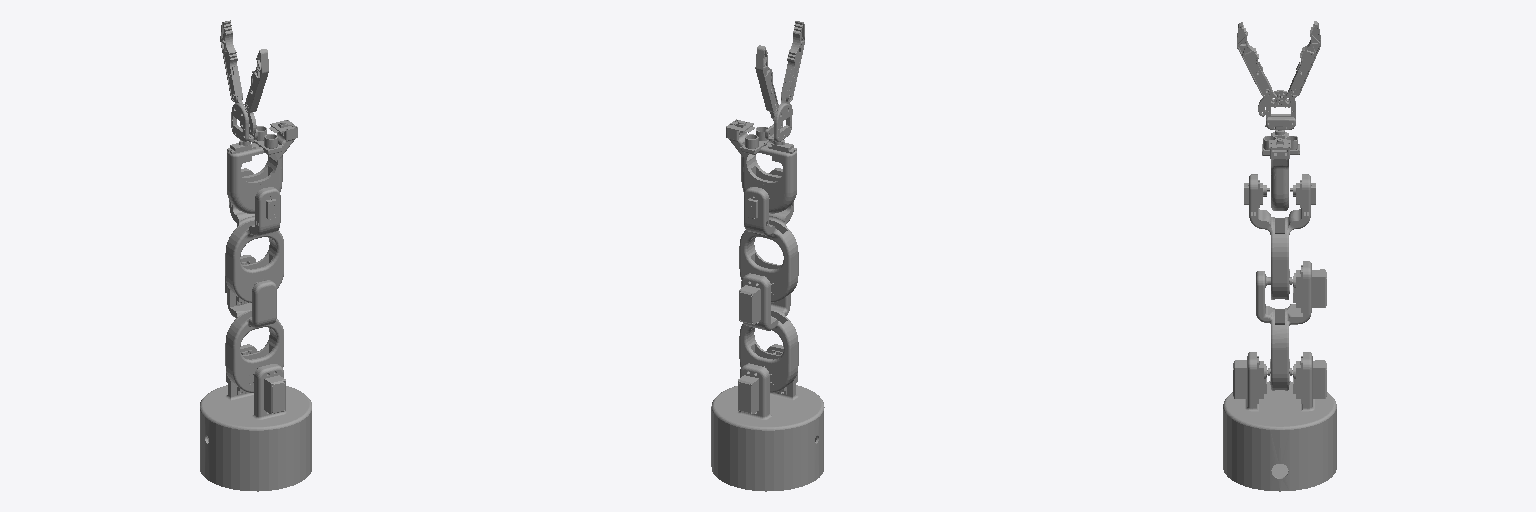
robot.urdf — root:
<?xml version="1.0"?>
<!-- Cleaned & normalized URDF for 6-DOF Manipulator with Gripper -->
<robot name="root">
    <mujoco>
        <compiler discardvisual="false"/>
    </mujoco>

    <material name="petg_grey">
        <color rgba="0.65 0.65 0.65 1.0"/>
    </material>

    <link name="base_link">
        <inertial>
            <mass value="0.140"/>
            <origin xyz="-0.000327 0.000476 -0.036632" rpy="0 0 0"/>
            <inertia ixx="3.535e-04" ixy="-2.190e-08" ixz="-5.529e-07" iyy="3.486e-04" iyz="-2.700e-06" izz="5.066e-04"/>
        </inertial>
        <visual>
            <origin xyz="0 0 0" rpy="0 0 0"/>
            <geometry>
                <mesh filename="../meshes/base_stand.stl" scale="1 1 1"/>
            </geometry>
            <material name="petg_grey"/>
        </visual>
        <collision>
            <origin xyz="0 0 0" rpy="0 0 0"/>
            <geometry>
                <mesh filename="../meshes/base_stand.stl" scale="1 1 1"/>
            </geometry>
        </collision>
    </link>

    <link name="base_spinning">
        <inertial>
            <mass value="0.135"/>
            <origin xyz="-6.781e-05 -1.190e-05 0.02308" rpy="0 0 0"/>
            <inertia ixx="2.179e-04" ixy="-1.657e-08" ixz="1.012e-07" iyy="1.077e-04" iyz="1.751e-08" izz="2.226e-04"/>
        </inertial>
        <visual>
            <origin xyz="-3.236e-48 6.8544e-17 -0.014" rpy="0 0 0"/>
            <geometry>
                <mesh filename="../meshes/base_spinning.stl" scale="1 1 1"/>
            </geometry>
            <material name="petg_grey"/>
        </visual>
        <collision>
            <origin xyz="-3.236e-48 6.8544e-17 -0.014" rpy="0 0 0"/>
            <geometry>
                <mesh filename="../meshes/base_spinning.stl" scale="1 1 1"/>
            </geometry>
        </collision>
    </link>

    <link name="shoulder_link">
        <inertial>
            <mass value="0.132"/>
            <origin xyz="0.000148 -0.001283 0.065867" rpy="0 0 0"/>
            <inertia ixx="3.123e-04" ixy="3.778e-07" ixz="2.745e-07" iyy="2.899e-04" iyz="-5.001e-05" izz="9.814e-05"/>
        </inertial>
        <visual>
            <origin xyz="0.0002 -0.010669 -0.057969" rpy="0 0 0"/>
            <geometry>
                <mesh filename="../meshes/shoulder.stl" scale="1 1 1"/>
            </geometry>
            <material name="petg_grey"/>
        </visual>
        <collision>
            <origin xyz="0.0002 -0.010669 -0.057969" rpy="0 0 0"/>
            <geometry>
                <mesh filename="../meshes/shoulder.stl" scale="1 1 1"/>
            </geometry>
        </collision>
    </link>

    <link name="elbow_link">
        <inertial>
            <mass value="0.110"/>
            <origin xyz="0.00018 -0.010554 0.060288" rpy="0 0 0"/>
            <inertia ixx="2.545e-04" ixy="2.612e-07" ixz="1.503e-07" iyy="2.469e-04" iyz="8.716e-07" izz="7.951e-05"/>
        </inertial>
        <visual>
            <origin xyz="0.0002 -0.010669 -0.174969" rpy="0 0 0"/>
            <geometry>
                <mesh filename="../meshes/elbow.stl" scale="1 1 1"/>
            </geometry>
            <material name="petg_grey"/>
        </visual>
        <collision>
            <origin xyz="0.0002 -0.010669 -0.174969" rpy="0 0 0"/>
            <geometry>
                <mesh filename="../meshes/elbow.stl" scale="1 1 1"/>
            </geometry>
        </collision>
    </link>

    <link name="wrist_link">
        <inertial>
            <mass value="0.065"/>
            <origin xyz="0.005936 0.010174 0.029235" rpy="0 0 0"/>
            <inertia ixx="5.635e-05" ixy="-5.063e-08" ixz="-1.376e-05" iyy="9.347e-05" iyz="-1.846e-07" izz="4.503e-05"/>
        </inertial>
        <visual>
            <origin xyz="-0.000223271 0.0100928 -0.289483" rpy="0 0 0"/>
            <geometry>
                <mesh filename="../meshes/wrist.stl" scale="1 1 1"/>
            </geometry>
            <material name="petg_grey"/>
        </visual>
        <collision>
            <origin xyz="-0.000223271 0.0100928 -0.289483" rpy="0 0 0"/>
            <geometry>
                <mesh filename="../meshes/wrist.stl" scale="1 1 1"/>
            </geometry>
        </collision>
    </link>

    <link name="main__gripperbase">
        <inertial>
            <mass value="0.086"/>
            <origin xyz="-0.002452 0.001003 0.016331" rpy="0 0 0"/>
            <inertia ixx="2.269e-05" ixy="-2.355e-08" ixz="3.213e-06" iyy="1.752e-05" iyz="-6.609e-08" izz="1.099e-05"/>
        </inertial>
        <visual>
            <origin xyz="0.013 0 -0.3665" rpy="0 0 0"/>
            <geometry>
                <mesh filename="../meshes/gripper_base.stl" scale="1 1 1"/>
            </geometry>
            <material name="petg_grey"/>
        </visual>
        <collision>
            <origin xyz="0.013 0 -0.3665" rpy="0 0 0"/>
            <geometry>
                <mesh filename="../meshes/gripper_base.stl" scale="1 1 1"/>
            </geometry>
        </collision>
    </link>

    <link name="main__gripper1">
        <inertial>
            <mass value="0.015"/>
            <origin xyz="0.002617 0.019424 0.04507" rpy="0 0 0"/>
            <inertia ixx="8.626e-06" ixy="-7.256e-09" ixz="-1.773e-08" iyy="7.521e-06" iyz="-2.632e-06" izz="1.233e-06"/>
        </inertial>
        <visual>
            <origin xyz="0.0171294 -0.00955012 -0.402" rpy="0 0 0"/>
            <geometry>
                <mesh filename="../meshes/gripper_finger1.stl" scale="1 1 1"/>
            </geometry>
            <material name="petg_grey"/>
        </visual>
        <collision>
            <origin xyz="0.0171294 -0.00955012 -0.402" rpy="0 0 0"/>
            <geometry>
                <mesh filename="../meshes/gripper_finger1.stl" scale="1 1 1"/>
            </geometry>
        </collision>
    </link>

    <link name="main__gripper2">
        <inertial>
            <mass value="0.015"/>
            <origin xyz="0.002219 -0.021419 0.039798" rpy="0 0 0"/>
            <inertia ixx="1.098e-05" ixy="-8.521e-09" ixz="1.885e-08" iyy="9.470e-06" iyz="3.387e-06" izz="1.646e-06"/>
        </inertial>
        <visual>
            <origin xyz="0.0170823 0.00745048 -0.402" rpy="0 0 0"/>
            <geometry>
                <mesh filename="../meshes/gripper_finger2.stl" scale="1 1 1"/>
            </geometry>
            <material name="petg_grey"/>
        </visual>
        <collision>
            <origin xyz="0.0170823 0.00745048 -0.402" rpy="0 0 0"/>
            <geometry>
                <mesh filename="../meshes/gripper_finger2.stl" scale="1 1 1"/>
            </geometry>
        </collision>
    </link>

    <joint name="revolute_1" type="revolute">
        <origin xyz="0 0 0.013" rpy="0 0 0"/>
        <axis xyz="0 0 -1"/>
        <limit lower="-3.14159" upper="3.14159" effort="1.5" velocity="3.0"/>
        <parent link="base_link"/>
        <child link="base_spinning"/>
    </joint>

    <joint name="revolute_2" type="revolute">
        <origin xyz="-0.00153435 0.010669 0.043598" rpy="0 0 0"/>
        <axis xyz="0 1 0"/>
        <limit lower="-1.5708" upper="1.5708" effort="2.5" velocity="3.0"/>
        <parent link="base_spinning"/>
        <child link="shoulder_link"/>
    </joint>

    <joint name="revolute_3" type="revolute">
        <origin xyz="0 0 0.117" rpy="0 0 0"/>
        <axis xyz="0 1 0"/>
        <limit lower="-1.5708" upper="1.5708" effort="2.0" velocity="3.0"/>
        <parent link="shoulder_link"/>
        <child link="elbow_link"/>
    </joint>

    <joint name="revolute_4" type="revolute">
        <origin xyz="-7.67294e-05 -0.0207719 0.117514" rpy="0 0 0"/>
        <axis xyz="0 -1 0"/>
        <limit lower="-1.5708" upper="1.5708" effort="1.5" velocity="3.0"/>
        <parent link="elbow_link"/>
        <child link="wrist_link"/>
    </joint>

    <joint name="revolute_5" type="revolute">
        <origin xyz="-0.0127233 0.0100928 0.0740668" rpy="0 0 0"/>
        <axis xyz="0 0 -1"/>
        <limit lower="-1.5708" upper="1.5708" effort="1.0" velocity="3.0"/>
        <parent link="wrist_link"/>
        <child link="main__gripperbase"/>
    </joint>

    <joint name="revolute_6" type="revolute">
        <origin xyz="-0.0042323 -0.00744957 0.0355" rpy="0 0 0"/>
        <axis xyz="-1 0 0"/>
        <limit lower="-0.6" upper="0.15" effort="1.0" velocity="3.0"/>
        <mimic joint="revolute_7" multiplier="-1.0" offset="0.0"/>
        <parent link="main__gripperbase"/>
        <child link="main__gripper2"/>
    </joint>

    <joint name="revolute_7" type="revolute">
        <origin xyz="-0.0041294 0.00955012 0.0355" rpy="0 0 0"/>
        <axis xyz="-1 0 0"/>
        <limit lower="-0.15" upper="0.6" effort="1.0" velocity="3.0"/>
        <parent link="main__gripperbase"/>
        <child link="main__gripper1"/>
    </joint>
</robot>

--- What the picture shows (computed from the rendered views, not written in the file) ---
Views: 3 orthographic renders of the robot side by side, from view 1: azimuth 30°, elevation 25°; view 2: azimuth 150°, elevation 25°; view 3: azimuth 270°, elevation 25°.
Robot: root — 8 links, 7 joints (7 revolute); root link base_link; default pose: all joints at 0.
Visible links, largest first — view 1: base_link, base_spinning, elbow_link, shoulder_link, wrist_link, main__gripper1, main__gripper2, main__gripperbase; view 2: base_link, base_spinning, shoulder_link, elbow_link, wrist_link, main__gripper2, main__gripper1, main__gripperbase; view 3: base_link, base_spinning, shoulder_link, elbow_link, wrist_link, main__gripper2, main__gripper1, main__gripperbase.
Boxes of the visible links, x1,y1,x2,y2 form: base_link: [200, 402, 311, 491]; base_spinning: [200, 344, 311, 430]; elbow_link: [225, 168, 283, 302]; shoulder_link: [225, 255, 283, 392]; wrist_link: [227, 120, 297, 213]; main__gripper1: [220, 20, 244, 104]; main__gripper2: [244, 49, 268, 133]; main__gripperbase: [231, 103, 257, 141]; base_link: [711, 406, 823, 491]; base_spinning: [712, 344, 824, 430]; shoulder_link: [739, 273, 798, 392]; elbow_link: [739, 168, 798, 302]; wrist_link: [726, 119, 796, 213]; main__gripper2: [779, 21, 804, 114]; main__gripper1: [755, 45, 778, 120]; main__gripperbase: [765, 103, 791, 141]; base_link: [1223, 409, 1336, 491]; base_spinning: [1223, 352, 1336, 429]; shoulder_link: [1256, 261, 1326, 390]; elbow_link: [1244, 174, 1315, 299]; wrist_link: [1262, 130, 1299, 210]; main__gripper2: [1237, 22, 1281, 116]; main__gripper1: [1280, 21, 1320, 107]; main__gripperbase: [1265, 90, 1295, 130].
Size in the robot's own frame: 0.133 by 0.1329 by 0.567 metres.
8 mesh visuals loaded from 8 distinct referenced files (8 binary STL).
